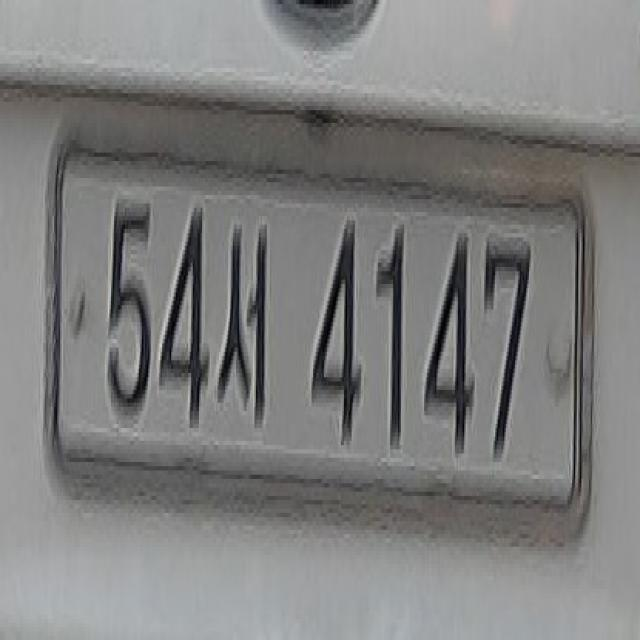1: (378, 203, 412, 458)
4: (148, 174, 217, 428), (423, 191, 478, 479), (307, 203, 364, 450)
5: (88, 174, 151, 428)
7: (481, 237, 532, 462)
license_plate: (40, 136, 594, 521)
seo: (210, 195, 279, 424)
